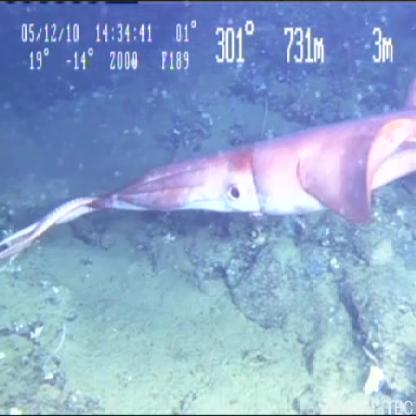Bio: (1, 74, 412, 262)
